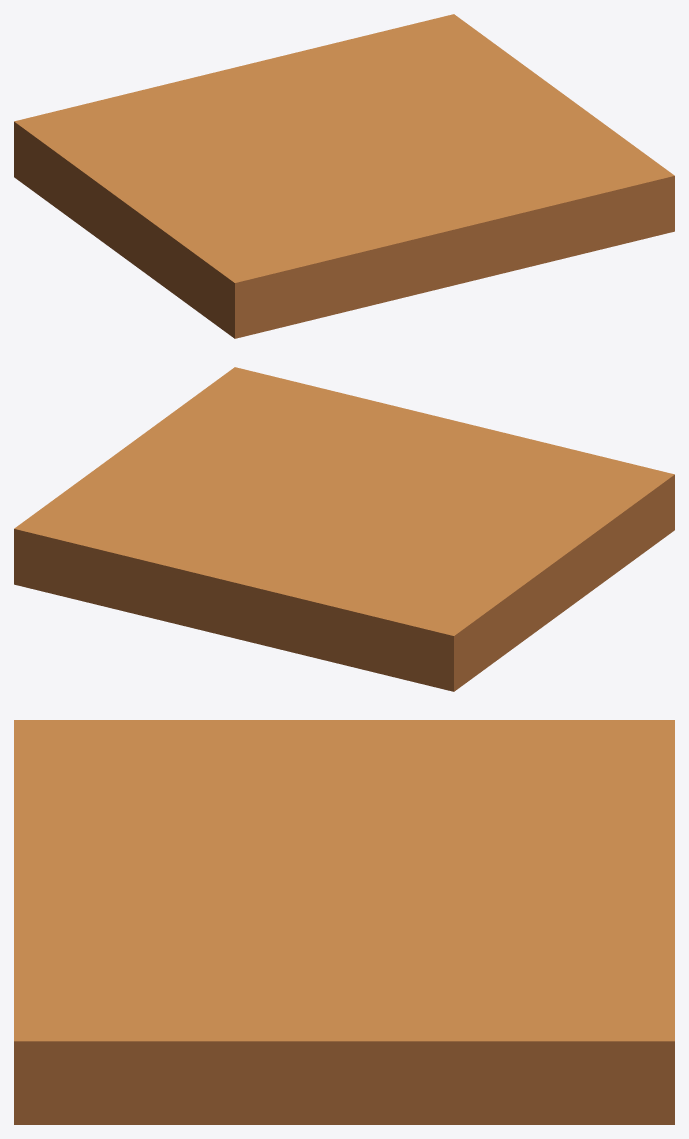
The model's file is ChoppingBoard.fbx.
The picture shows the model from 3 angles, top to bottom: view 1: azimuth 30°, elevation 25°; view 2: azimuth 150°, elevation 25°; view 3: azimuth 270°, elevation 25°; orthographic projection. The views are drawn at different scales.
Parts seen in each view (by area): view 1: GEOChoppingBoard; view 2: GEOChoppingBoard; view 3: GEOChoppingBoard.
Boxes of the visible parts, bbox=[...] form: GEOChoppingBoard: bbox=[14, 14, 674, 338]; GEOChoppingBoard: bbox=[14, 367, 674, 691]; GEOChoppingBoard: bbox=[14, 720, 674, 1124].
Bounding box in the file's own units: 403 × 48.79 × 350.
